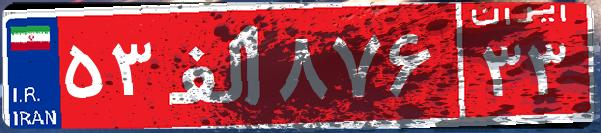3: (475, 38, 525, 113), (110, 28, 158, 105), (525, 38, 570, 115)
5: (57, 26, 110, 107)
6: (385, 28, 445, 110)
7: (330, 28, 385, 110)
8: (273, 28, 330, 110)
الف: (158, 15, 273, 115)
